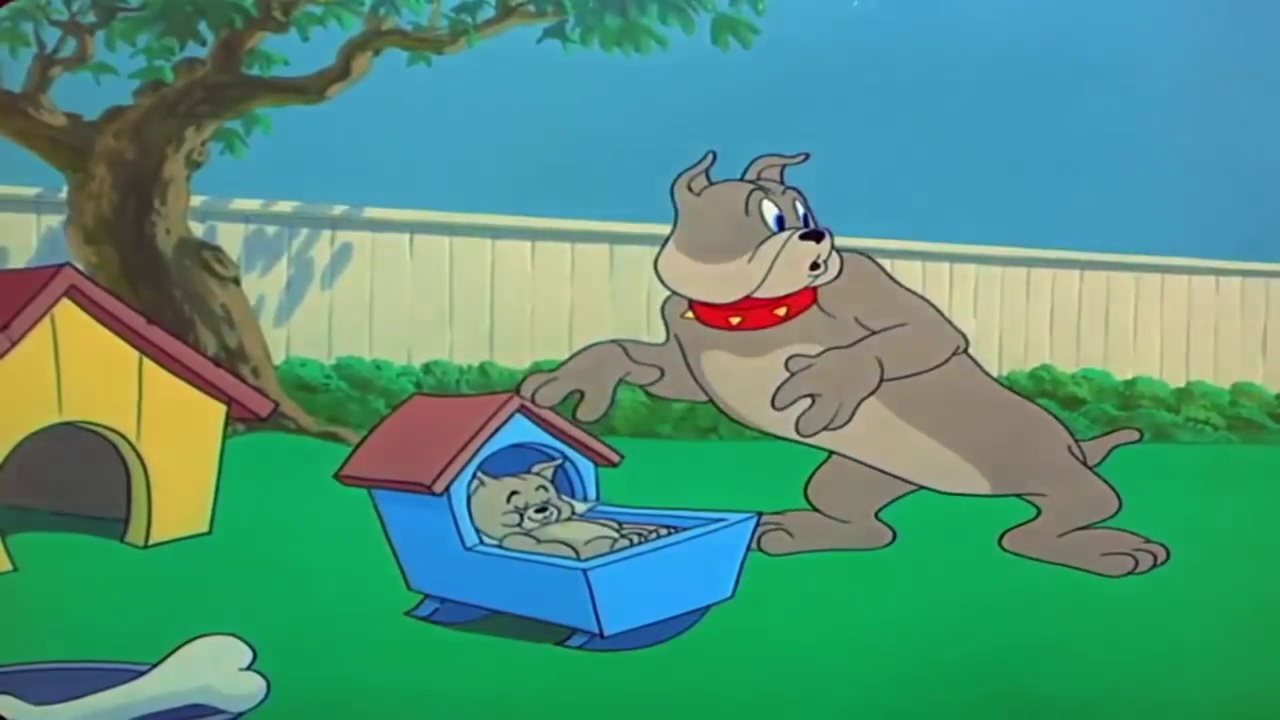spike: (646, 150, 851, 334)
